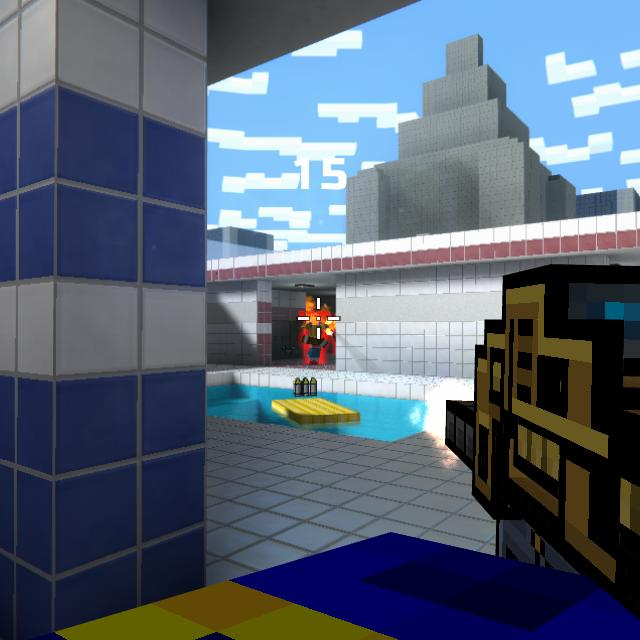Enemy: (302, 324, 327, 366)
